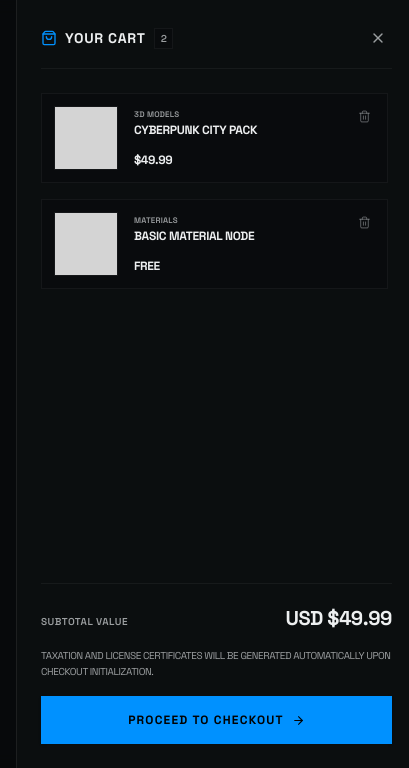
Scenario: CartDrawer Component › removes an item when trash icon is clicked
Click the button named "Remove item" next to "Cyberpunk City Pack".
click(364, 116)  # box x1=354 y1=106 x2=375 y2=127
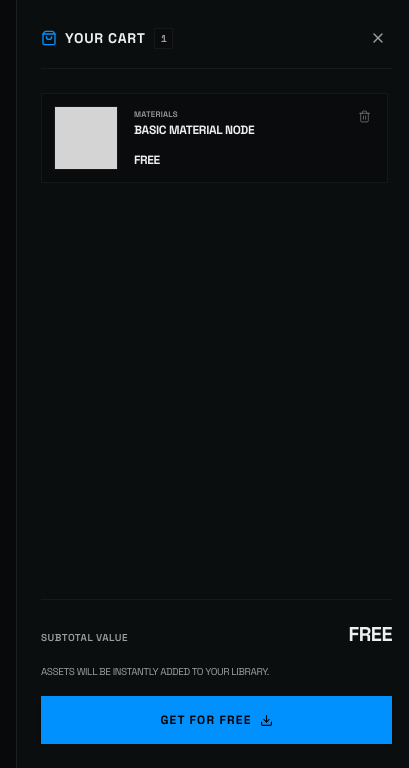
Expected: the heading "Cyberpunk City Pack" is gone
